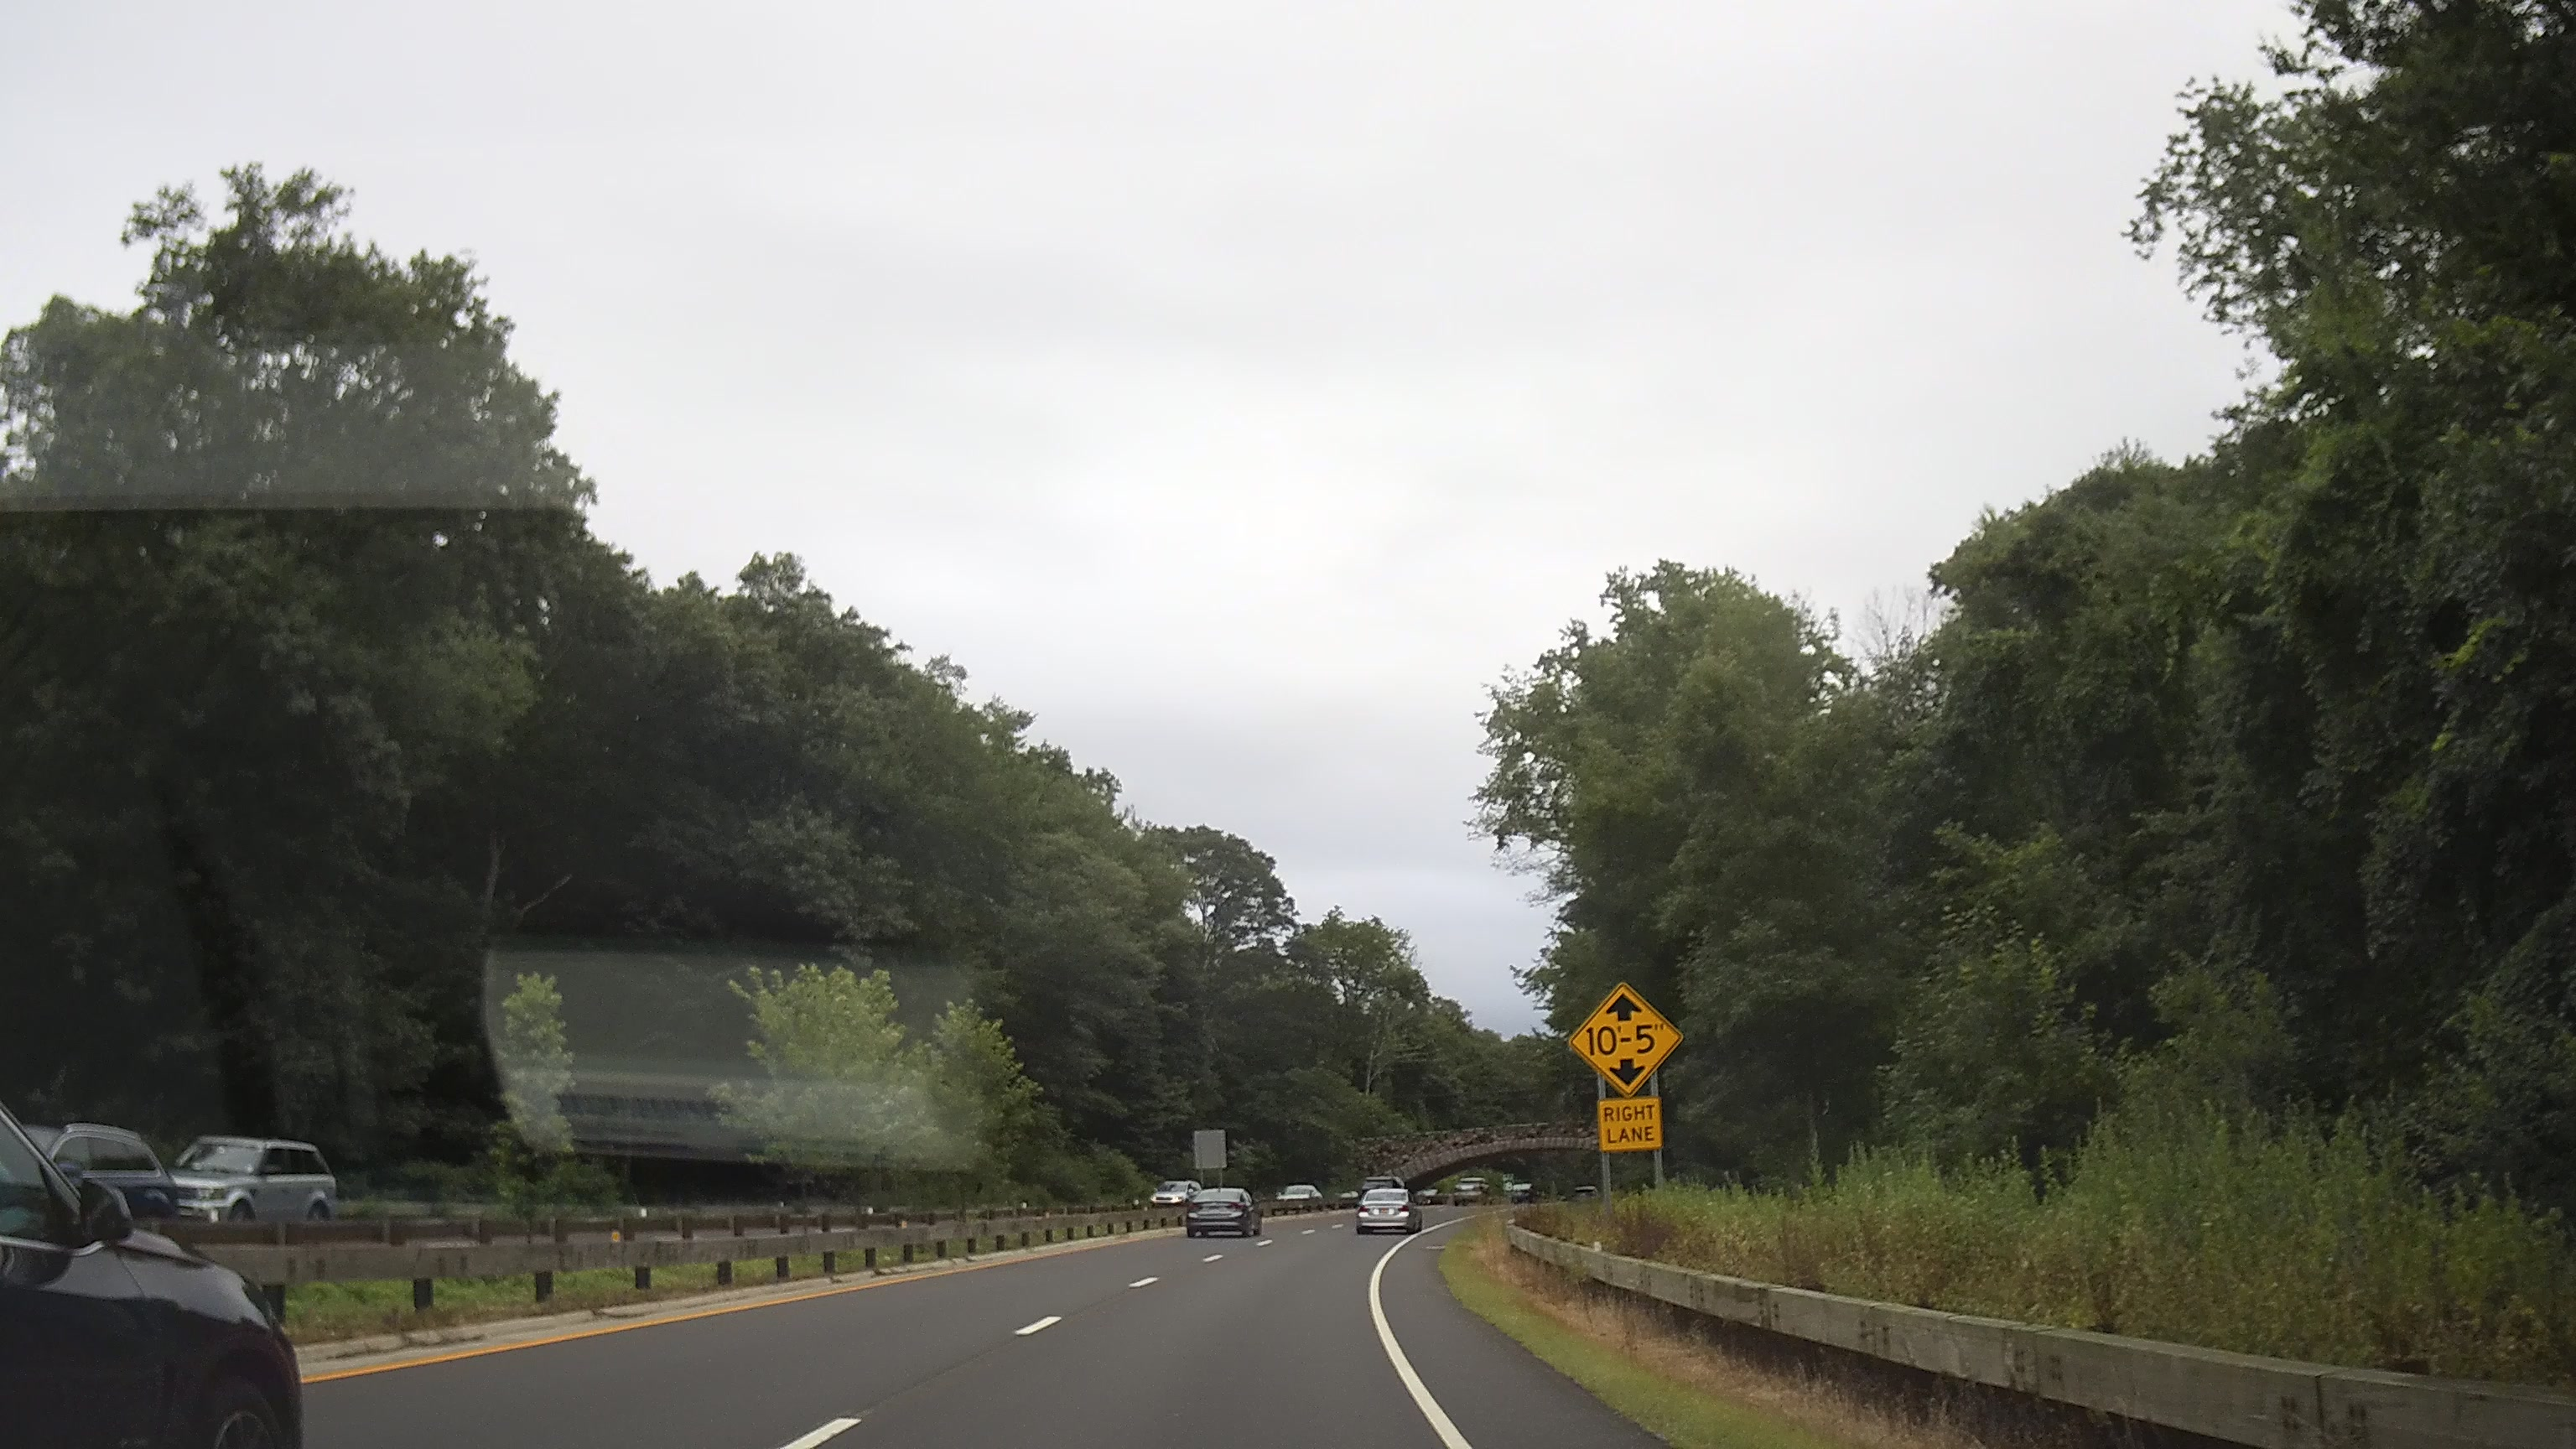low-clearance-sign: (1568, 982, 1684, 1099)
